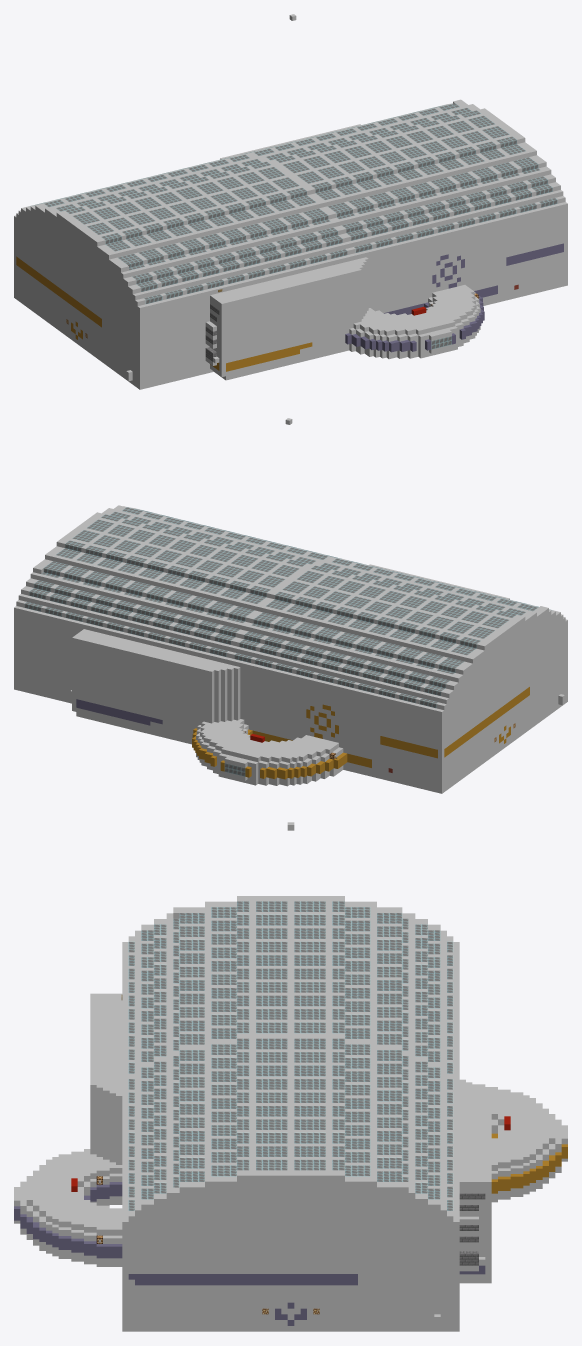
The model's file is minecraft.obj.
3 renders of one model, top to bottom at view 1: azimuth 30°, elevation 25°; view 2: azimuth 150°, elevation 25°; view 3: azimuth 270°, elevation 25°, orthographic. The views are drawn at different scales.
Size of the model in its own units: 106 by 64 by 87.
